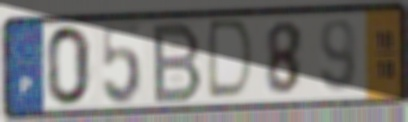0: (43, 24, 97, 109)
5: (100, 20, 146, 108)
8: (262, 18, 305, 98)
9: (317, 16, 359, 96)
B: (150, 20, 205, 107)
D: (204, 17, 257, 104)
